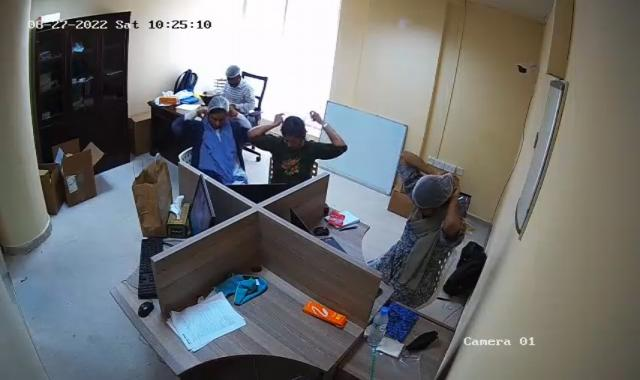hairnet: (408, 175, 456, 213), (208, 93, 238, 116), (224, 64, 244, 81)
no_hairnet: (279, 116, 309, 146)
